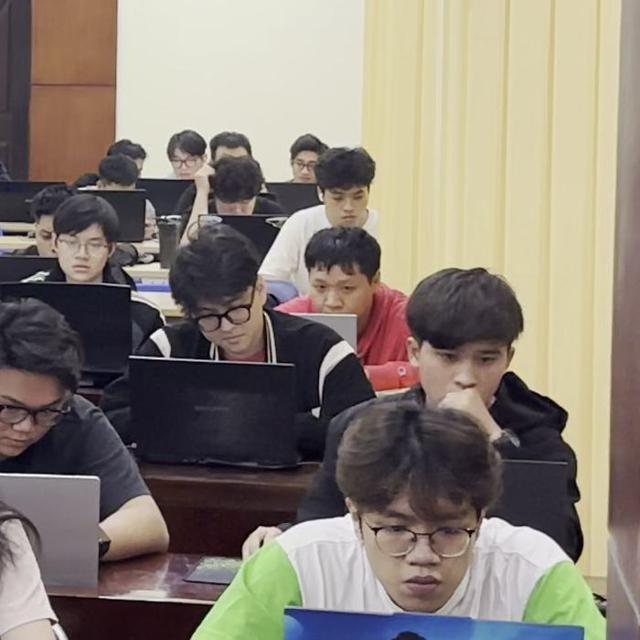Looking away: (335, 391, 493, 594), (402, 274, 518, 418), (0, 304, 84, 466), (170, 235, 260, 347), (50, 198, 136, 290), (298, 242, 377, 316), (314, 150, 384, 220)
